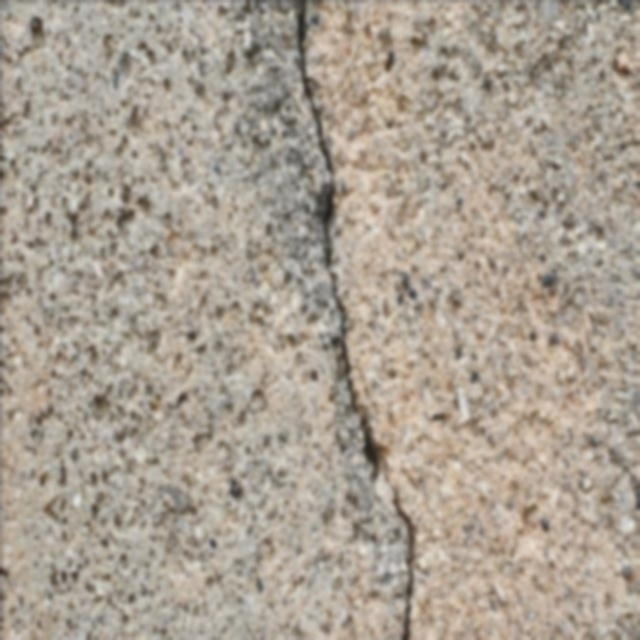SurfaceCrack: (240, 0, 451, 640)
